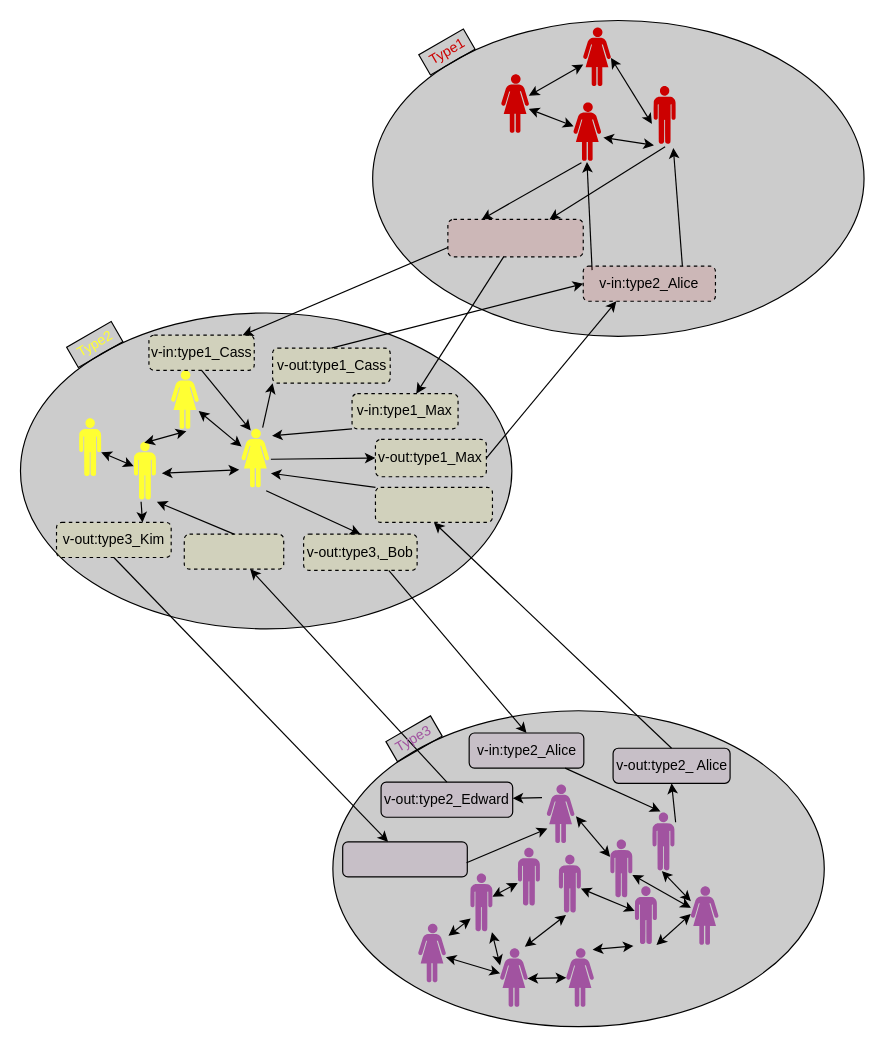
Some shapes in this 885 by 1047 pixel diagram are drawn without their labels. The box of each missing label's shape, as (x1, y1, x2, y2) in pixels:
v-in:type2_Edward: (342, 841, 467, 877)
v-in:type3_Bob: (374, 486, 492, 522)
v-in:type3_Kim: (183, 533, 284, 569)
v-out:type2_Alice: (447, 218, 583, 257)
